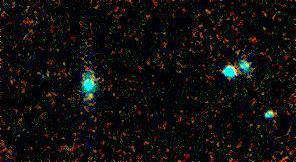star: (76, 81, 106, 111)
